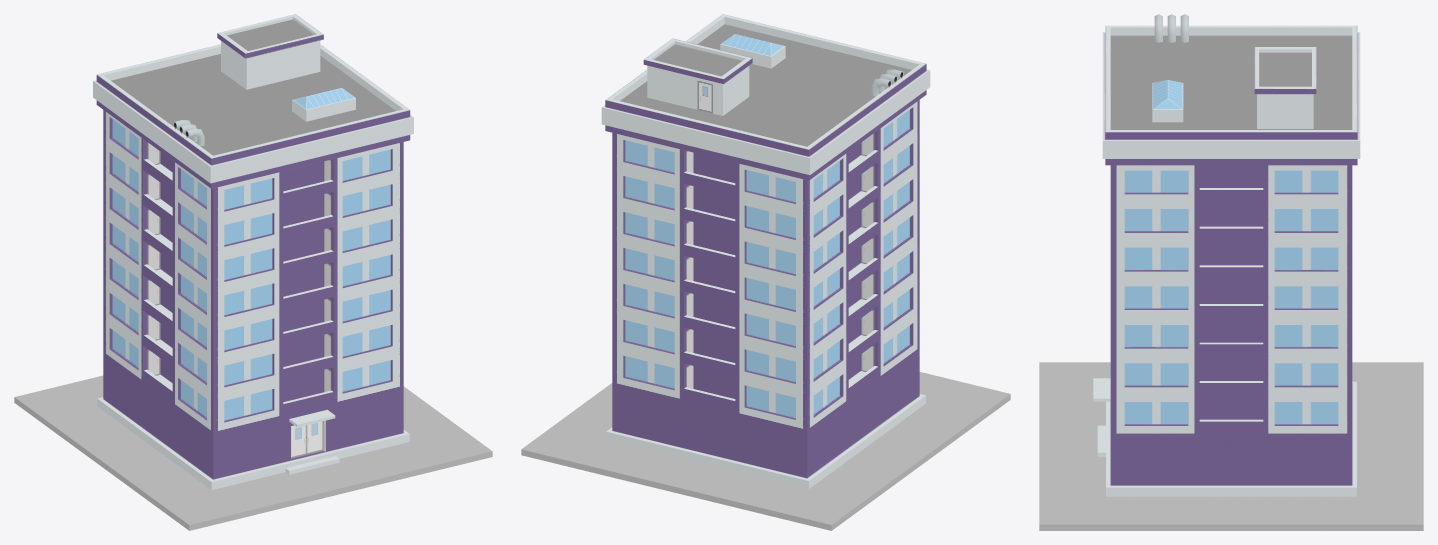
The model's file is Building7.glb.
3 views of the same model, side by side, from view 1: azimuth 30°, elevation 25°; view 2: azimuth 150°, elevation 25°; view 3: azimuth 270°, elevation 25° (orthographic). The views are drawn at different scales.
Visible parts, largest first — view 1: Box151; view 2: Box151; view 3: Box151.
Part boxes in pixels (bbox=[...]): Box151: bbox=[14, 14, 492, 530]; Box151: bbox=[521, 14, 1010, 530]; Box151: bbox=[1039, 14, 1423, 530].
Bounding box in the file's own units: 12 × 13.92 × 12.
1 material, 1 textured.
